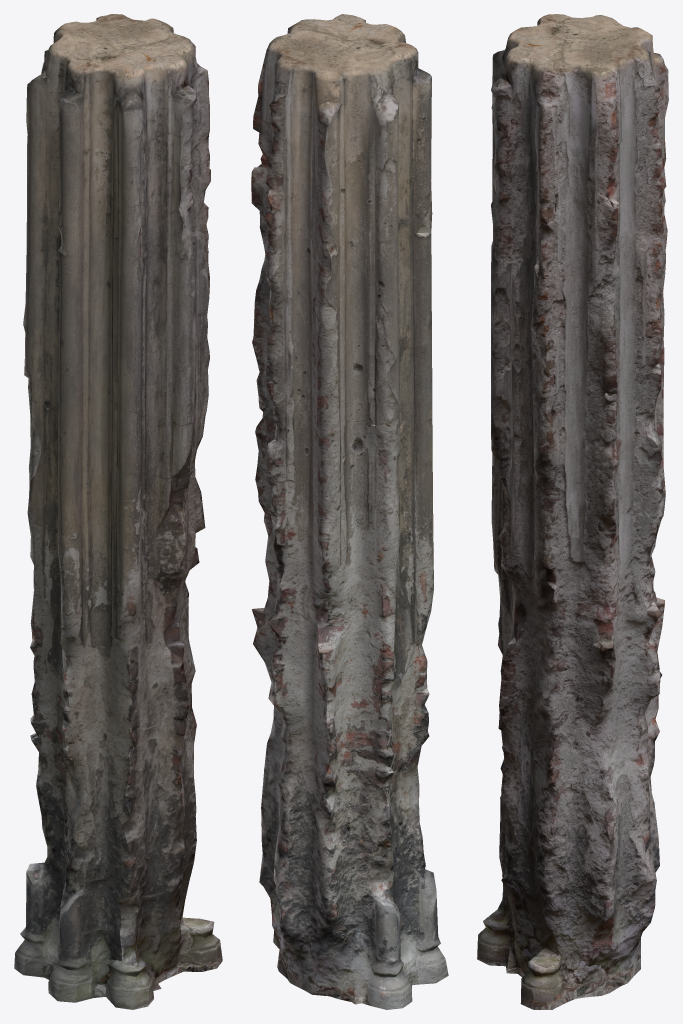
The model's file is SM_ChapelColumn_02_02.fbx.
3 renders of one model, left to right at view 1: azimuth 30°, elevation 25°; view 2: azimuth 150°, elevation 25°; view 3: azimuth 270°, elevation 25°, orthographic.
Parts seen in each view (by area): view 1: sm_ChapelColumn_02_02_LOD0; view 2: sm_ChapelColumn_02_02_LOD0; view 3: sm_ChapelColumn_02_02_LOD0.
Boxes of the visible parts, x1,y1,x2,y2 form: sm_ChapelColumn_02_02_LOD0: (14, 14, 222, 1009); sm_ChapelColumn_02_02_LOD0: (251, 14, 448, 1009); sm_ChapelColumn_02_02_LOD0: (477, 14, 668, 1009).
Bounding box in the file's own units: 72.34 × 72.53 × 386.
